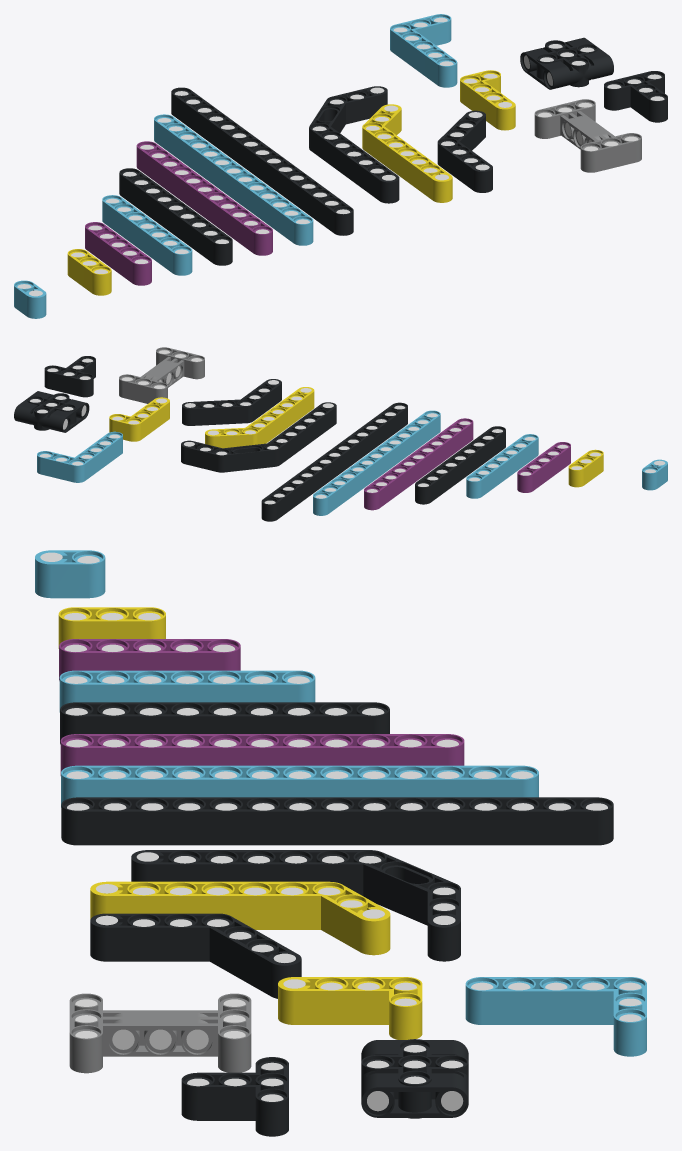
Rendered from Beams Udula.fbx.
The picture shows the model from 3 angles, top to bottom: view 1: azimuth 30°, elevation 25°; view 2: azimuth 150°, elevation 25°; view 3: azimuth 270°, elevation 25°; orthographic projection. The views are drawn at different scales.
Parts seen in each view (by area): view 1: Technic Beam x15, Technic Beam x13, Technic Angular Beam Hook, Technic Beam x11, Beam I Frame, Technic Beam x9, Technic Angular Beam 1x7, Biscuit, Technic L 2x5, Technic Beam x7, Technic Angular Beam 3x2, T Beam (+4 smaller); view 2: Technic Beam x15, Technic Angular Beam Hook, Technic Beam x13, Technic Beam x11, Technic Beam x9, Technic Angular Beam 1x7, Beam I Frame, Technic Angular Beam 3x2, Technic L 2x5, Biscuit, Technic Beam x7, T Beam (+4 smaller); view 3: Technic Beam x15, Technic Beam x13, Technic Angular Beam Hook, Technic Beam x11, Technic Angular Beam 1x7, Technic Beam x9, Technic Angular Beam 3x2, Beam I Frame, Technic L 2x5, Technic Beam x7, Biscuit, Technic L 1x4 (+4 smaller).
Part boxes in pixels (x1=…): Technic Beam x15: x1=171, y1=87, x2=353, y2=235; Technic Beam x13: x1=154, y1=114, x2=313, y2=245; Technic Angular Beam Hook: x1=309, y1=86, x2=399, y2=203; Technic Beam x11: x1=136, y1=141, x2=272, y2=255; Beam I Frame: x1=534, y1=99, x2=641, y2=172; Technic Beam x9: x1=119, y1=168, x2=232, y2=265; Technic Angular Beam 1x7: x1=362, y1=104, x2=452, y2=202; Biscuit: x1=520, y1=37, x2=613, y2=89; Technic L 2x5: x1=390, y1=14, x2=457, y2=87; Technic Beam x7: x1=102, y1=195, x2=192, y2=275; Technic Angular Beam 3x2: x1=437, y1=110, x2=492, y2=192; T Beam: x1=604, y1=71, x2=667, y2=122; Technic Beam x15: x1=261, y1=402, x2=407, y2=521; Technic Angular Beam Hook: x1=181, y1=402, x2=336, y2=472; Technic Beam x13: x1=313, y1=410, x2=440, y2=515; Technic Beam x11: x1=364, y1=418, x2=473, y2=510; Technic Beam x9: x1=415, y1=426, x2=505, y2=504; Technic Angular Beam 1x7: x1=205, y1=387, x2=314, y2=448; Beam I Frame: x1=119, y1=347, x2=204, y2=403; Technic Angular Beam 3x2: x1=182, y1=379, x2=281, y2=425; Technic L 2x5: x1=37, y1=431, x2=122, y2=482; Biscuit: x1=14, y1=391, x2=89, y2=432; Technic Beam x7: x1=466, y1=434, x2=538, y2=498; T Beam: x1=44, y1=356, x2=95, y2=397; Technic Beam x15: x1=61, y1=797, x2=613, y2=845; Technic Beam x13: x1=61, y1=765, x2=538, y2=807; Technic Angular Beam Hook: x1=131, y1=850, x2=460, y2=961; Technic Beam x11: x1=60, y1=734, x2=464, y2=775; Technic Angular Beam 1x7: x1=90, y1=881, x2=390, y2=955; Technic Beam x9: x1=60, y1=702, x2=389, y2=744; Technic Angular Beam 3x2: x1=90, y1=913, x2=301, y2=998; Beam I Frame: x1=69, y1=993, x2=251, y2=1073; Technic L 2x5: x1=465, y1=977, x2=646, y2=1056; Technic Beam x7: x1=59, y1=670, x2=315, y2=712; Biscuit: x1=361, y1=1039, x2=468, y2=1118; Technic L 1x4: x1=278, y1=977, x2=422, y2=1039.
Bounding box in the file's own units: 2787 × 80.64 × 1305.
